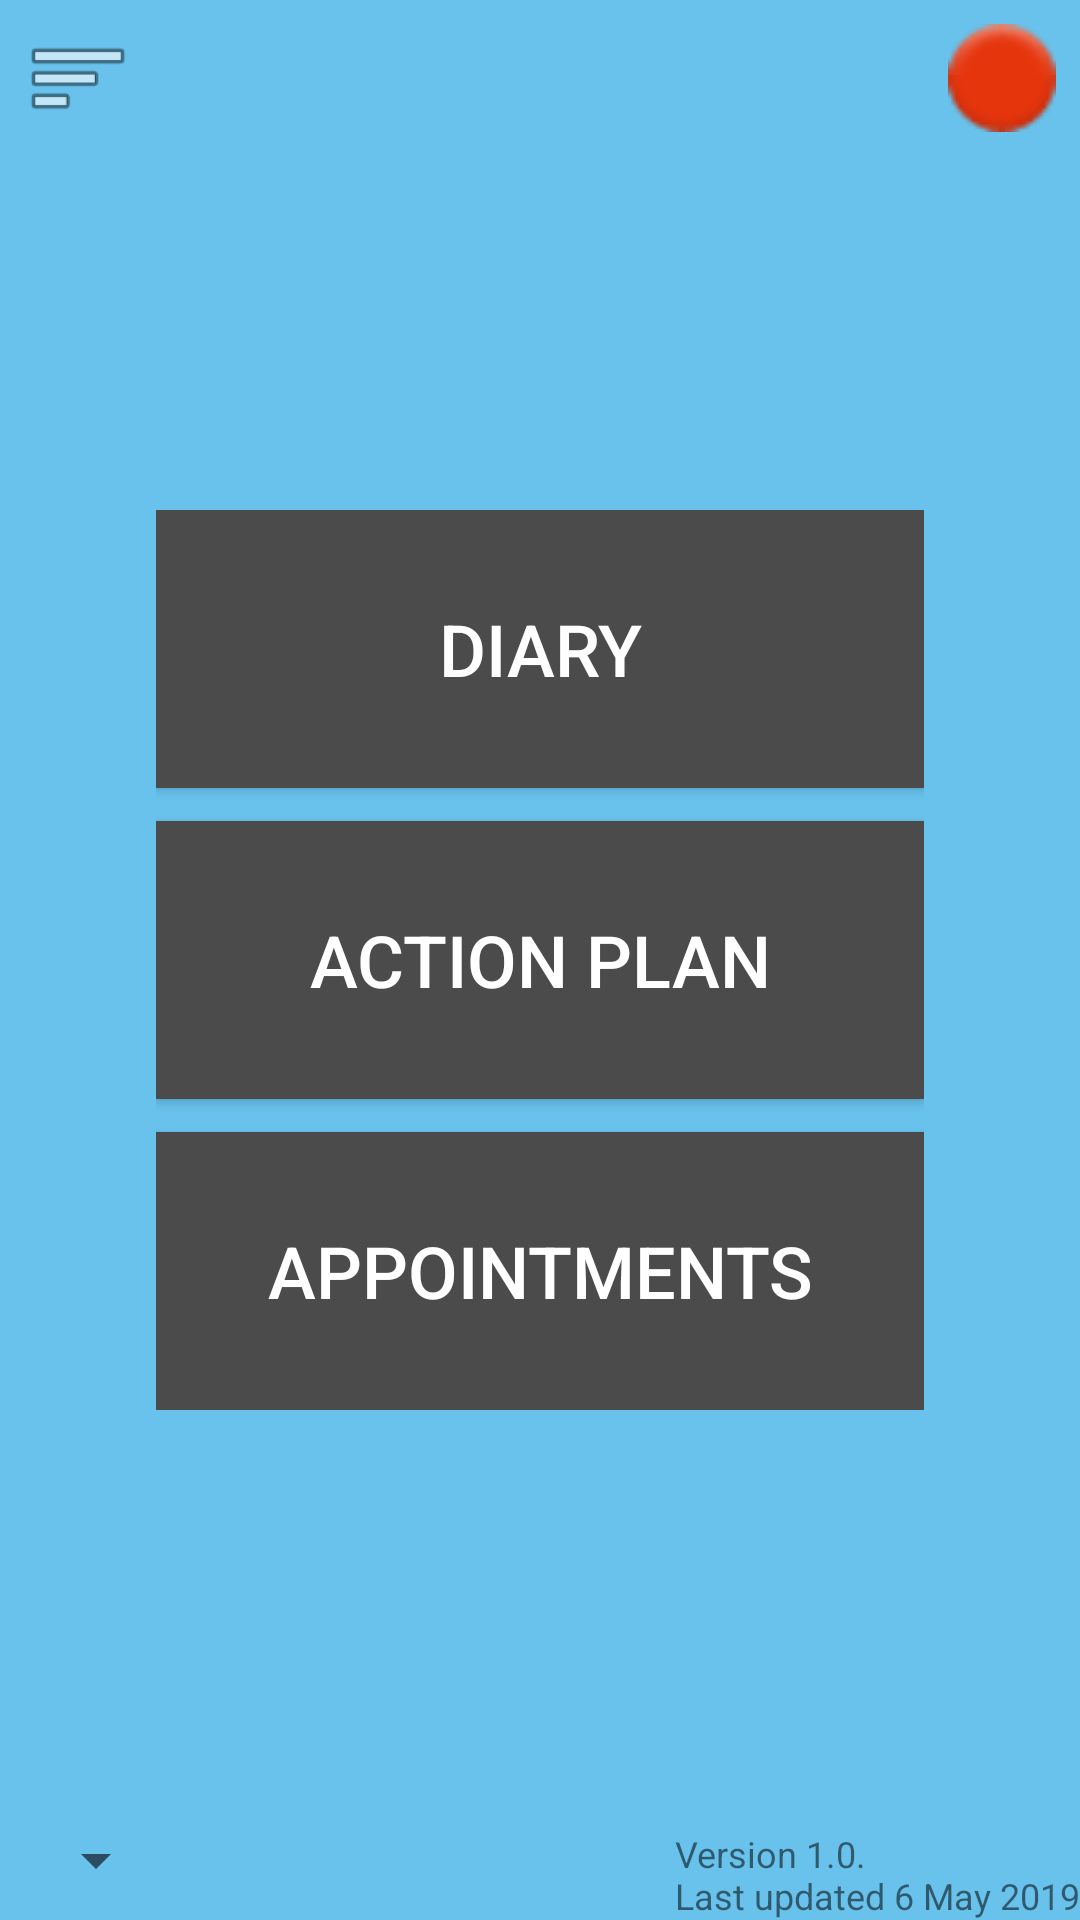

Named icons in this screenshot (1080w x 1920h) and their centers, point (x, y):
sort by size: point (78, 78)
